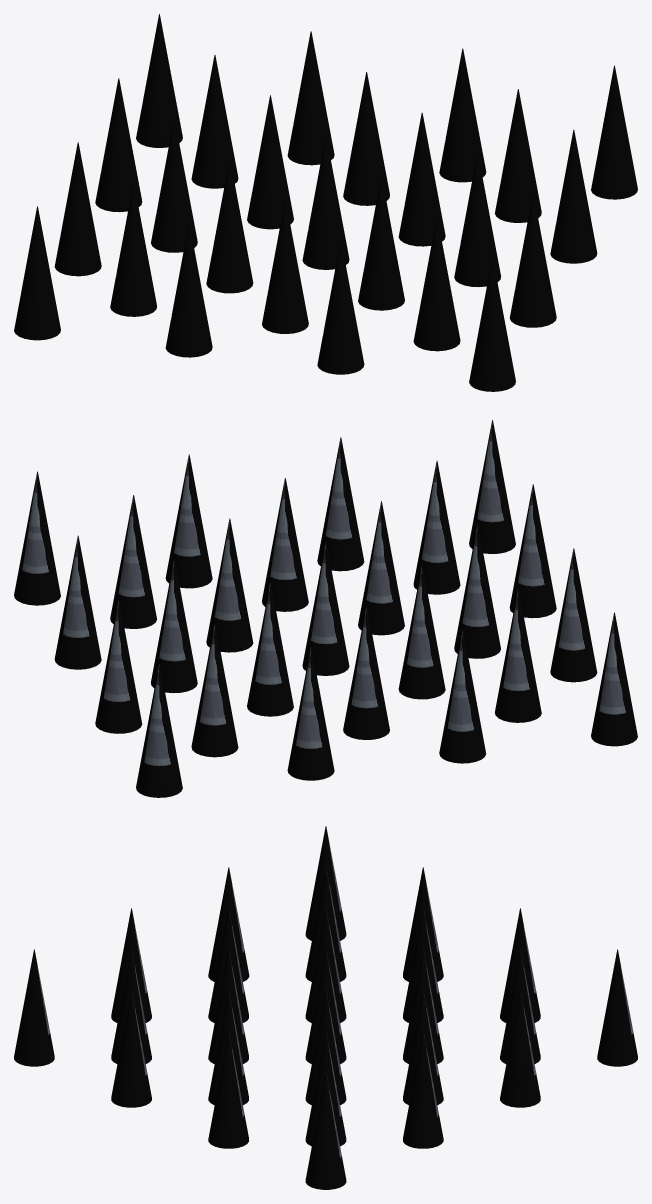
File: spikes.fbx
3 views of the same model, one above another, from view 1: azimuth 30°, elevation 25°; view 2: azimuth 150°, elevation 25°; view 3: azimuth 270°, elevation 25° (orthographic). The views are drawn at different scales.
Parts seen in each view (by area): view 1: spikes; view 2: spikes; view 3: spikes.
Part boxes in pixels (<box>): spikes: <box>14,14,637,391</box>; spikes: <box>14,420,637,797</box>; spikes: <box>14,826,637,1189</box>.
Bounding box in the file's own units: 454 × 87.12 × 454.
